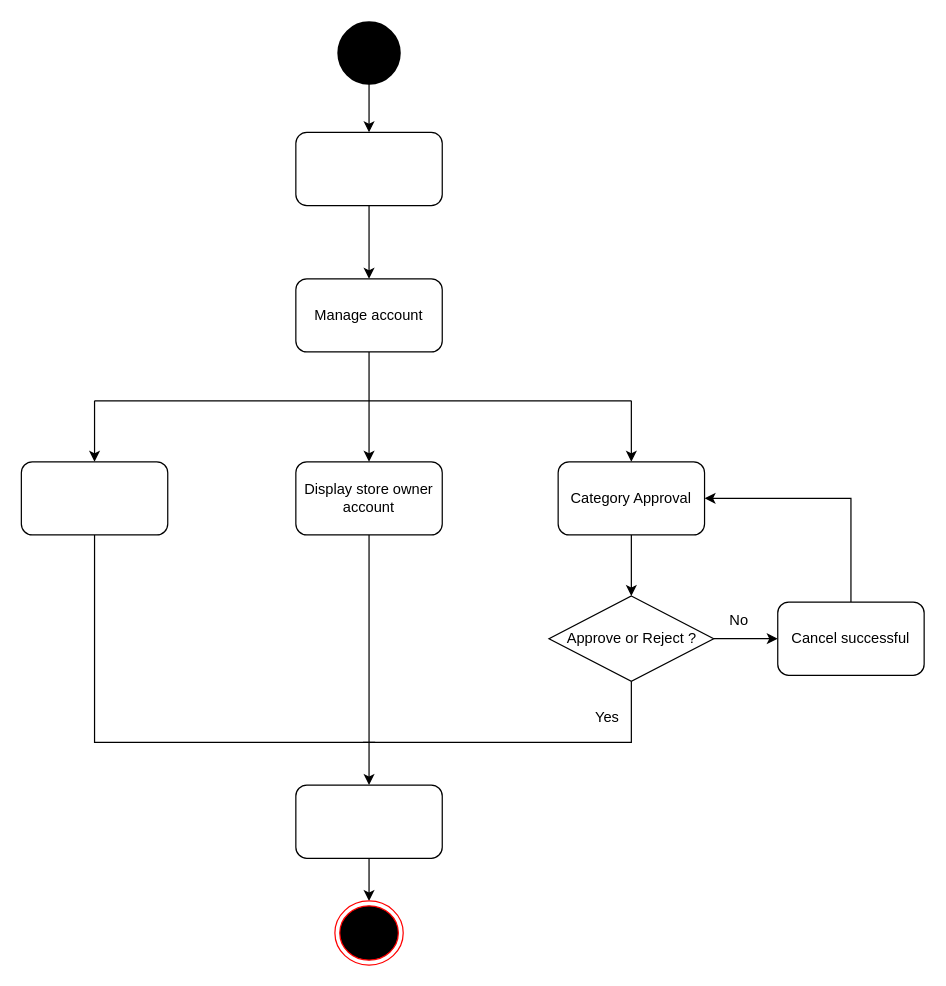
The diagram is 946 pixels wide and 986 high, and some of its shapes have lost their labels. Each missing label, with the centre of its shape:
"Display customer account" belongs at point (94, 498).
"Login" belongs at point (368, 168).
"Successful" belongs at point (368, 821).
